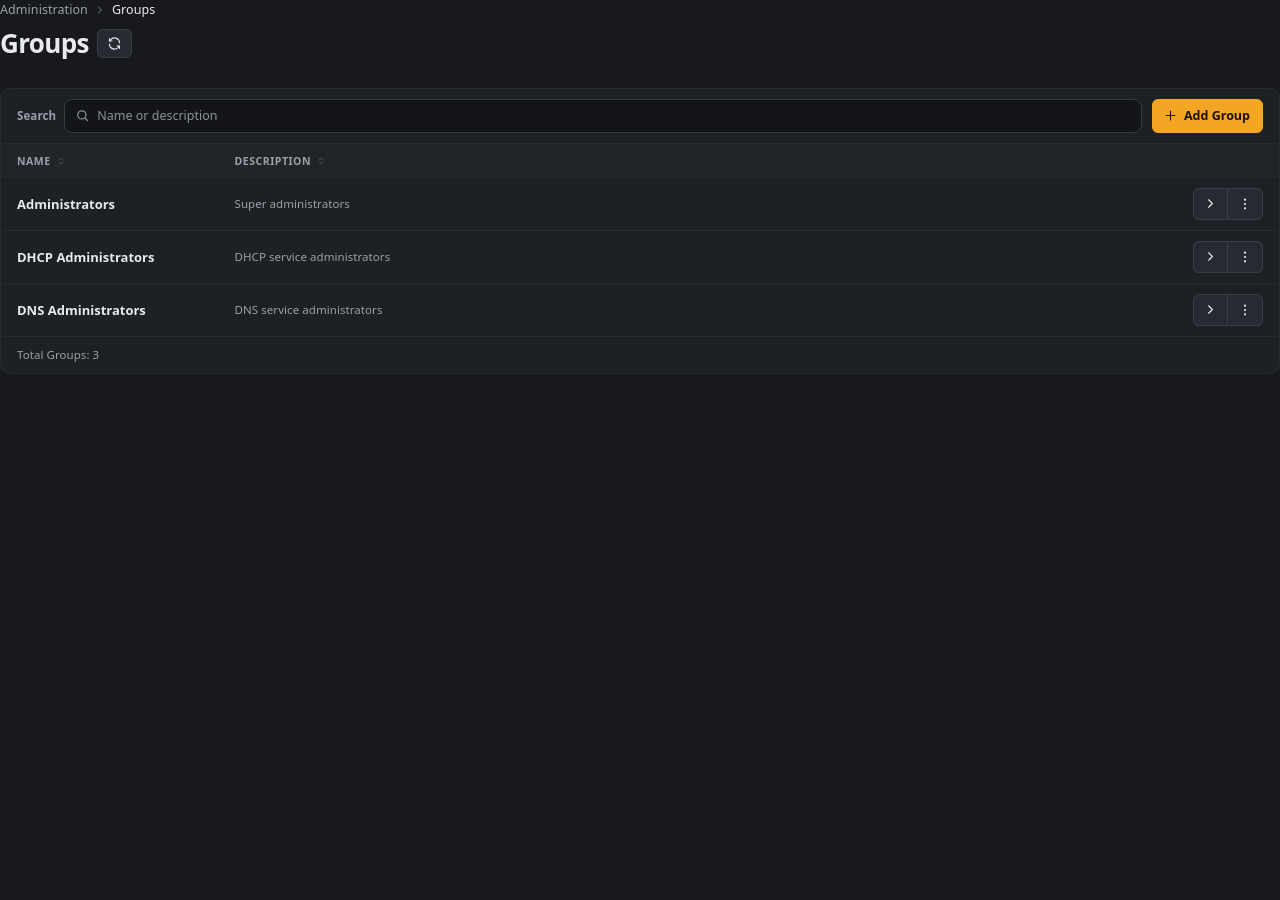
Test: Groups: the table › the menu holds the two upstream entries, and the name opens the details
Click the button named "Actions for ".
click(1245, 204)  # box top-left (1228, 189), bottom-right (1262, 219)
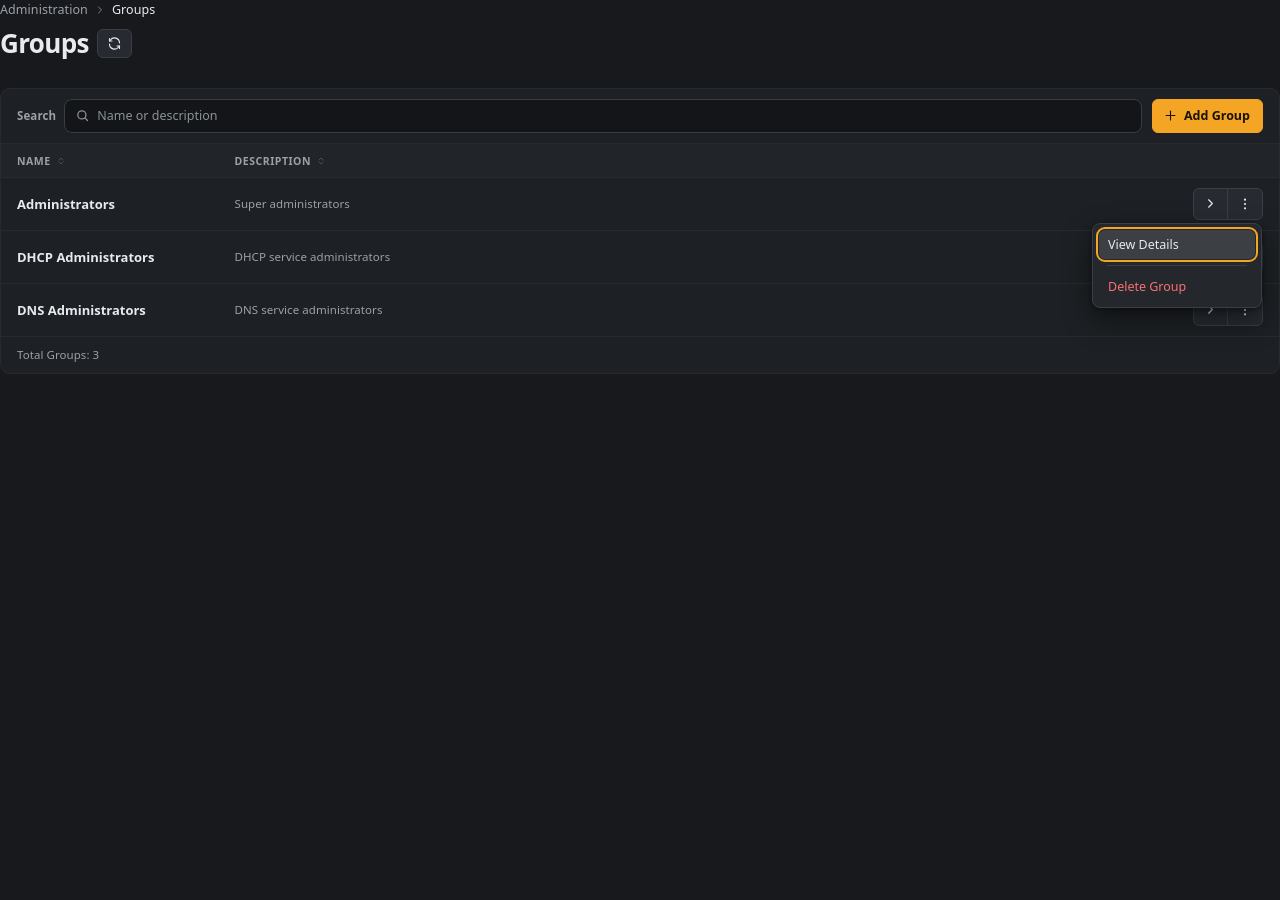
Expected: the menu items read "View Details", "Delete Group", in this order, top-left (1099, 230), bottom-right (1255, 259); top-left (1099, 272), bottom-right (1255, 301)
Press Escape
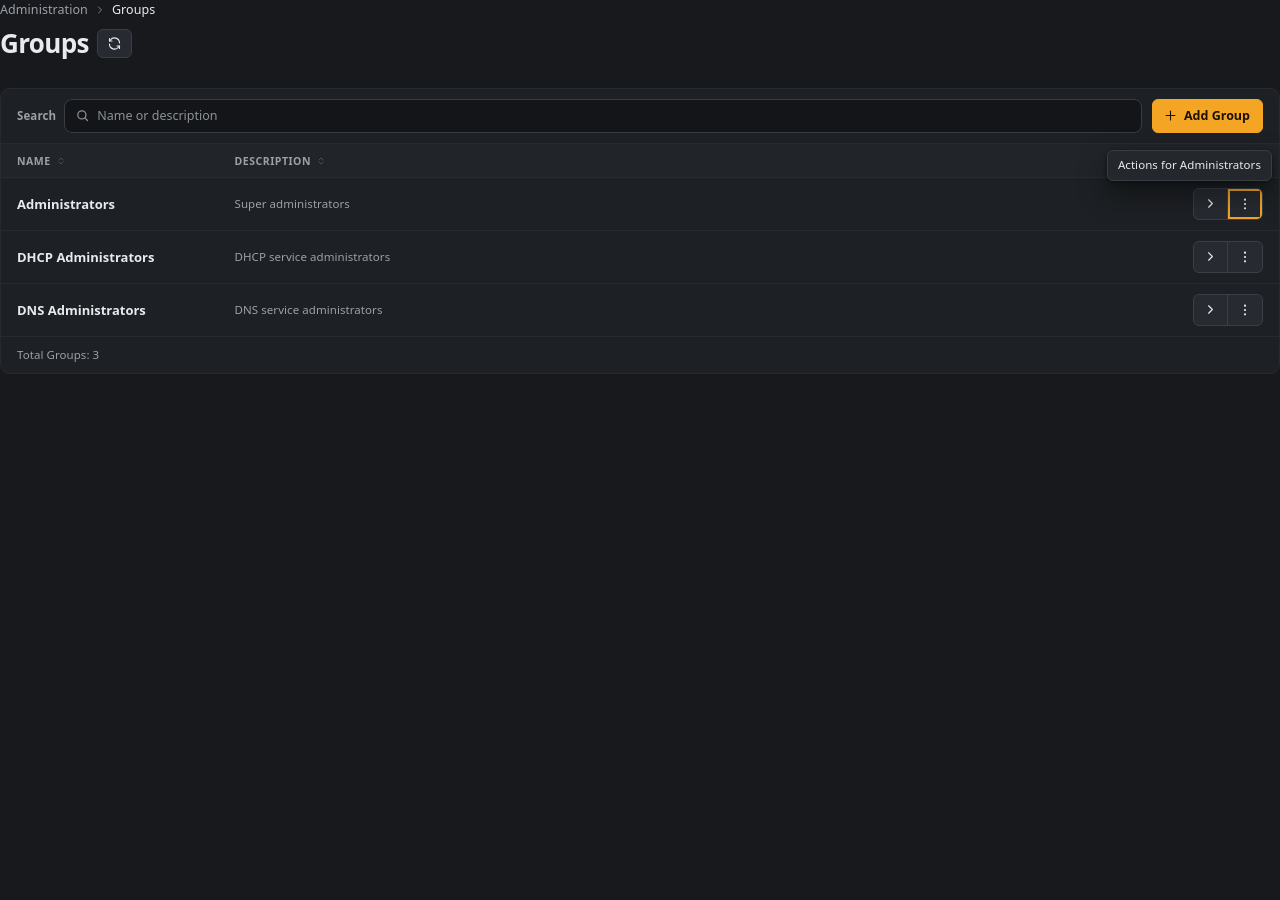
Click the button "Administrators".
click(66, 204)  # box top-left (17, 194), bottom-right (115, 214)
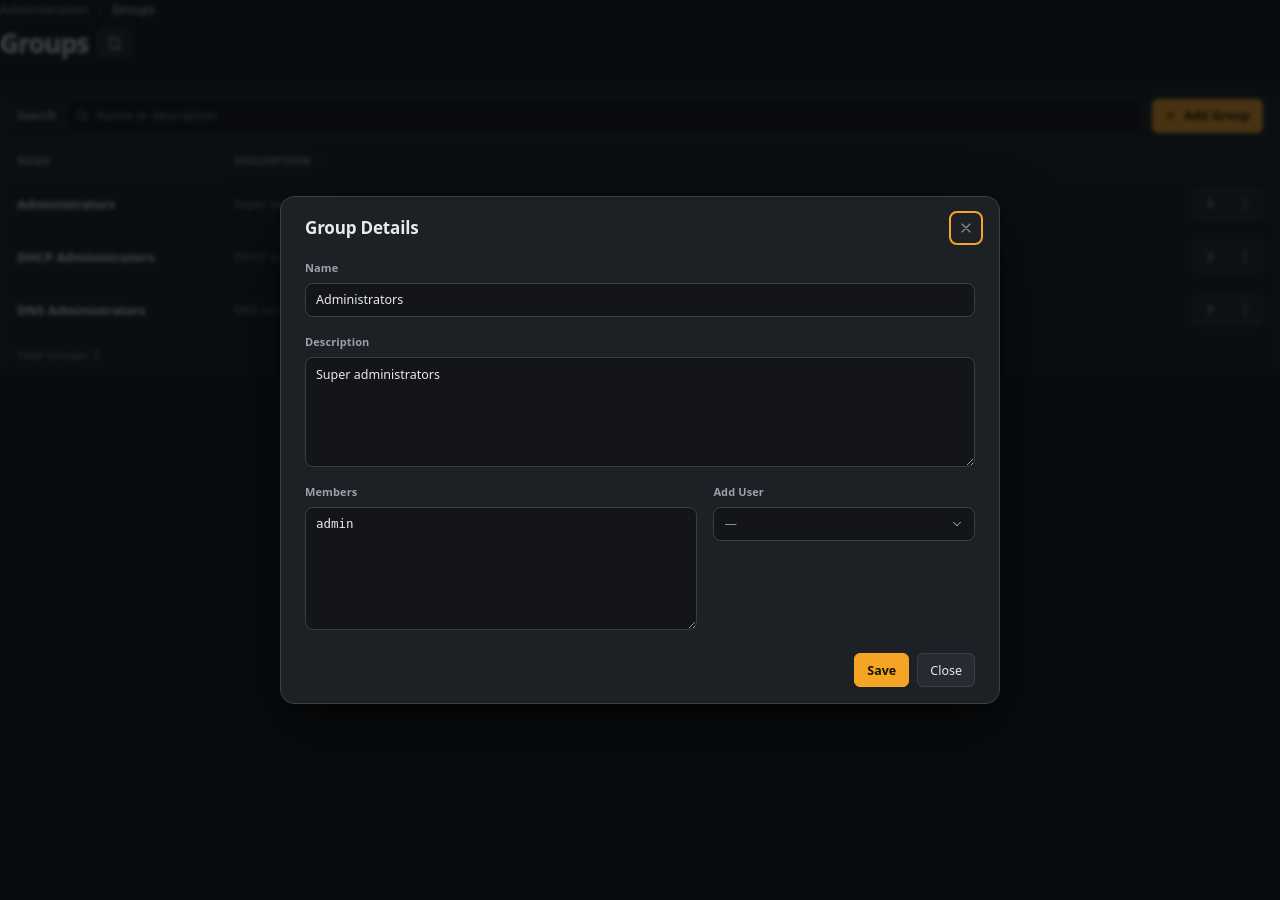
Expected: the text box labelled "Members" is shown, top-left (305, 507), bottom-right (697, 630)
